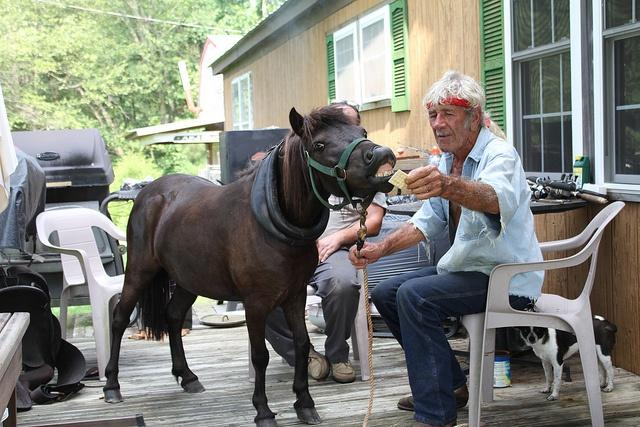Kursi: (459, 198, 626, 426), (33, 206, 132, 381)
